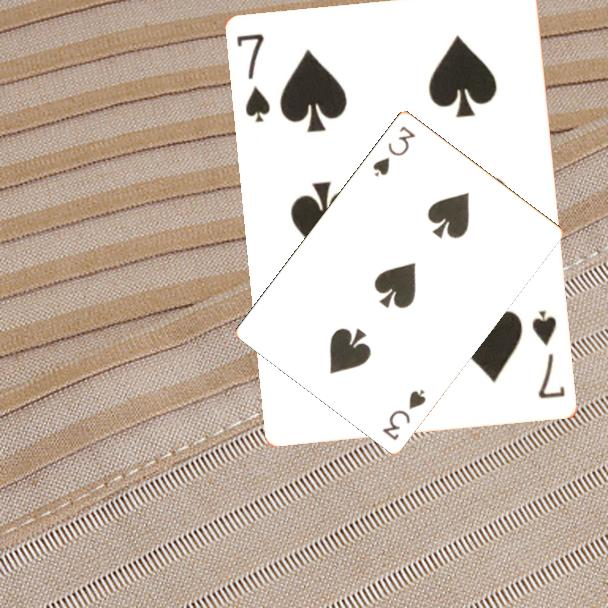s03: (379, 385, 429, 443), (369, 122, 418, 179)
s07: (233, 31, 274, 126), (529, 307, 569, 402)
